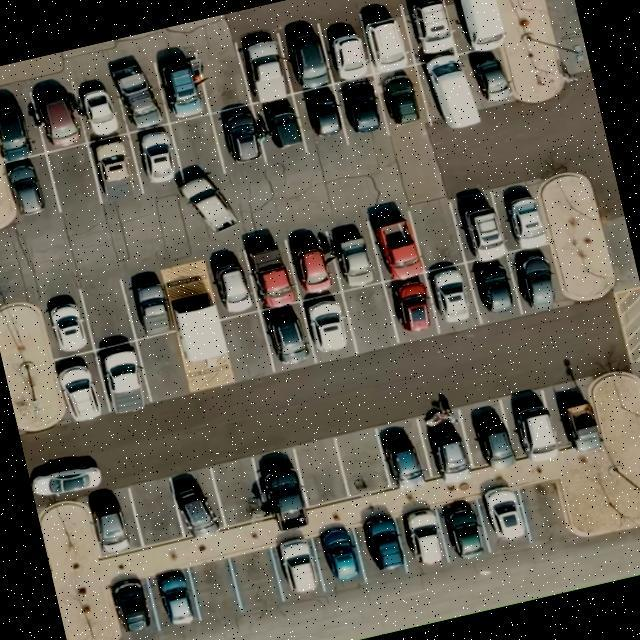space-empty: (192, 37, 252, 114), (332, 426, 392, 499), (290, 437, 350, 510), (408, 196, 466, 270), (78, 275, 136, 349), (169, 112, 225, 188), (227, 544, 286, 616), (46, 144, 102, 218), (126, 477, 183, 548), (342, 281, 398, 352), (210, 458, 266, 528), (219, 310, 274, 381), (186, 556, 242, 624), (136, 331, 190, 398), (519, 478, 573, 542)
space-occupied: (249, 448, 314, 530), (418, 51, 483, 132), (110, 54, 172, 132), (236, 25, 296, 105), (504, 386, 564, 466), (457, 398, 518, 476), (153, 49, 216, 124), (92, 338, 154, 413), (322, 216, 383, 292), (450, 187, 510, 264), (85, 132, 145, 208), (242, 235, 300, 313), (372, 417, 432, 492), (30, 77, 88, 154), (70, 70, 130, 144), (365, 206, 423, 282), (40, 286, 98, 362), (415, 407, 473, 483), (268, 530, 328, 602), (357, 1, 416, 74), (352, 509, 412, 580), (312, 520, 369, 594), (390, 510, 450, 580), (475, 482, 534, 553), (300, 290, 358, 362), (547, 377, 603, 451), (52, 351, 109, 423), (491, 179, 548, 251), (334, 75, 391, 147), (168, 466, 225, 538), (0, 153, 59, 222), (120, 270, 178, 340), (374, 65, 431, 136), (128, 122, 184, 194), (424, 260, 479, 332), (436, 494, 491, 566), (278, 21, 332, 94), (206, 246, 257, 322), (399, 0, 462, 61), (292, 84, 346, 155), (258, 302, 314, 370), (384, 273, 440, 341), (466, 256, 522, 324), (477, 484, 532, 553), (318, 14, 372, 84), (146, 566, 202, 632), (464, 45, 520, 111), (214, 103, 268, 171), (85, 487, 136, 558), (507, 247, 561, 314), (441, 0, 508, 53), (286, 230, 336, 300), (255, 95, 306, 162), (0, 87, 42, 163), (108, 576, 158, 636)
